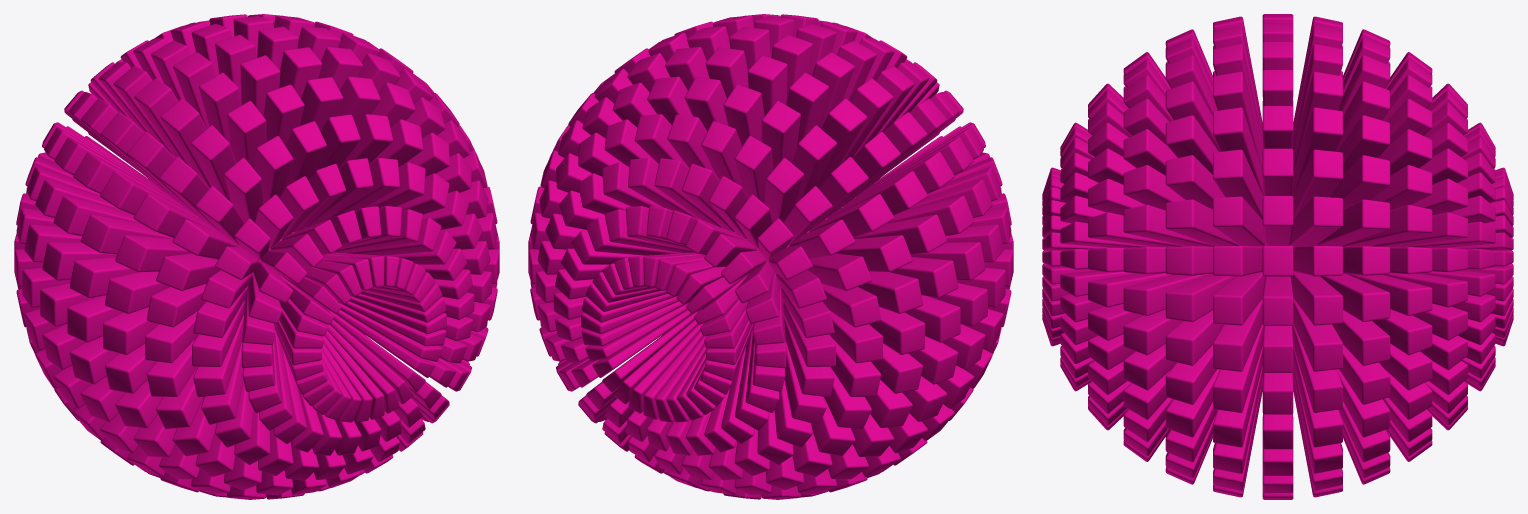
The model's file is ball.fbx.
The picture shows the model from 3 angles, left to right: view 1: azimuth 30°, elevation 25°; view 2: azimuth 150°, elevation 25°; view 3: azimuth 270°, elevation 25°; orthographic projection.
Visible parts, largest first — view 1: future_ball_quads_:Sphere005; view 2: future_ball_quads_:Sphere005; view 3: future_ball_quads_:Sphere005.
Boxes of the visible parts, x1=… form: future_ball_quads_:Sphere005: x1=14, y1=14, x2=499, y2=499; future_ball_quads_:Sphere005: x1=528, y1=14, x2=1013, y2=499; future_ball_quads_:Sphere005: x1=1042, y1=14, x2=1513, y2=499.
Bounding box in the file's own units: 101 × 101 × 98.47.
